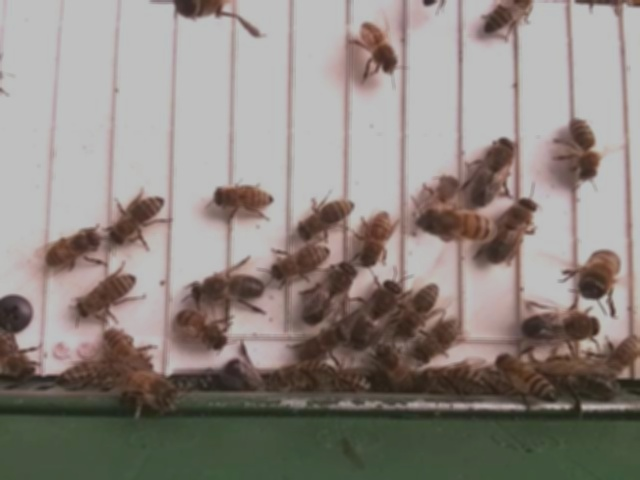Drone: (346, 277, 403, 352), (486, 195, 540, 267), (300, 259, 358, 326), (468, 133, 518, 208), (575, 243, 625, 303), (520, 309, 603, 343), (190, 270, 267, 306)
Worker: (497, 352, 557, 402), (74, 271, 139, 316), (110, 192, 166, 244), (292, 323, 354, 366), (298, 195, 358, 238), (102, 326, 154, 375), (42, 227, 101, 269), (398, 280, 441, 336), (210, 181, 277, 216), (425, 209, 498, 241), (568, 115, 602, 183), (357, 20, 399, 75), (359, 207, 395, 270), (414, 316, 465, 360), (175, 308, 230, 348), (270, 243, 331, 279), (483, 0, 532, 34), (606, 329, 640, 378)
